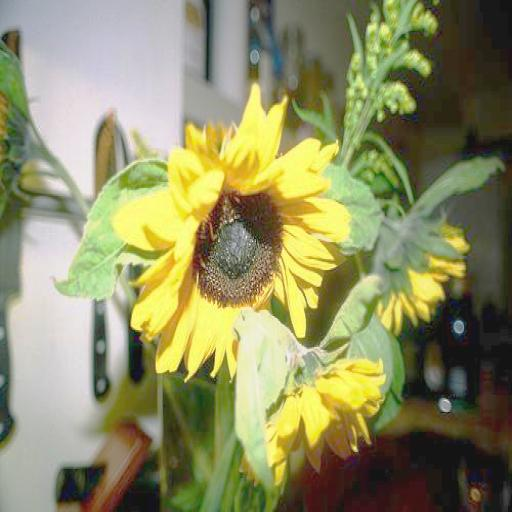sunflower: (116, 80, 344, 380), (262, 355, 389, 475), (372, 218, 472, 326)
